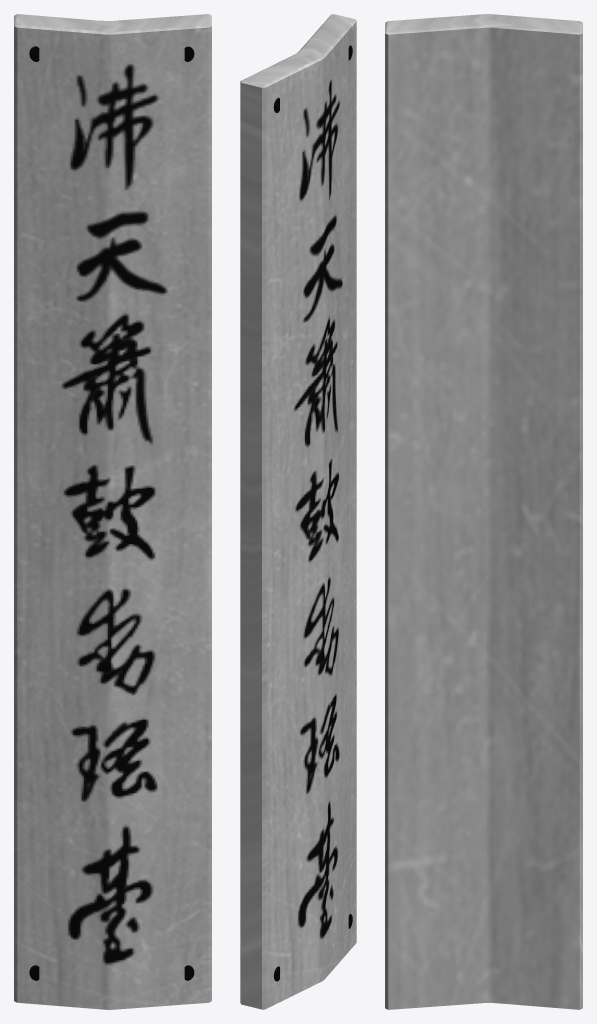
The model's file is SM_Stela09B.fbx.
3 renders of one model, left to right at view 1: azimuth 90°, elevation 25°; view 2: azimuth 150°, elevation 25°; view 3: azimuth 270°, elevation 25°, orthographic. The views are drawn at different scales.
Visible parts, largest first — view 1: SM_Stela09B; view 2: SM_Stela09B; view 3: SM_Stela09B.
Boxes of the visible parts, box(x1,y1,x2,y2) form: SM_Stela09B: box(14, 14, 211, 1009); SM_Stela09B: box(240, 14, 356, 1009); SM_Stela09B: box(385, 14, 582, 1009).
Bounding box in the file's own units: 4.4 × 18.02 × 98.22.
Materials: 1 (1 with a texture image).
